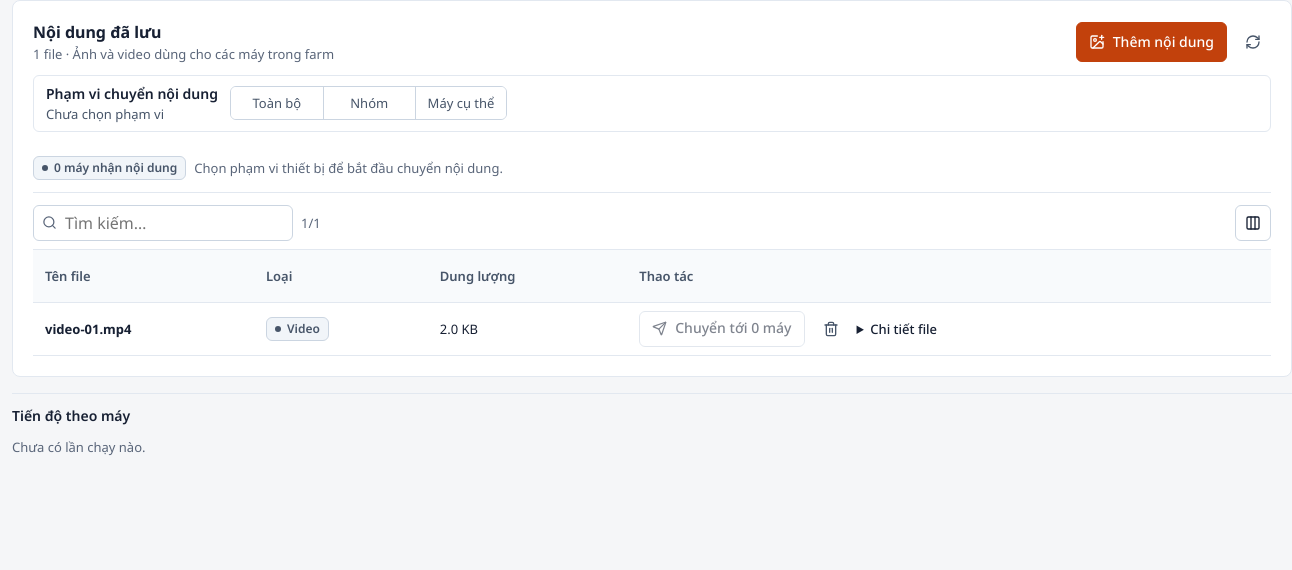
Test: MaterialPage list states › never expands an empty group or cleared explicit selection into All
The image size is (1292, 570).
Click the radio button labelled "Nhóm": click(369, 103) [323,87,415,119]
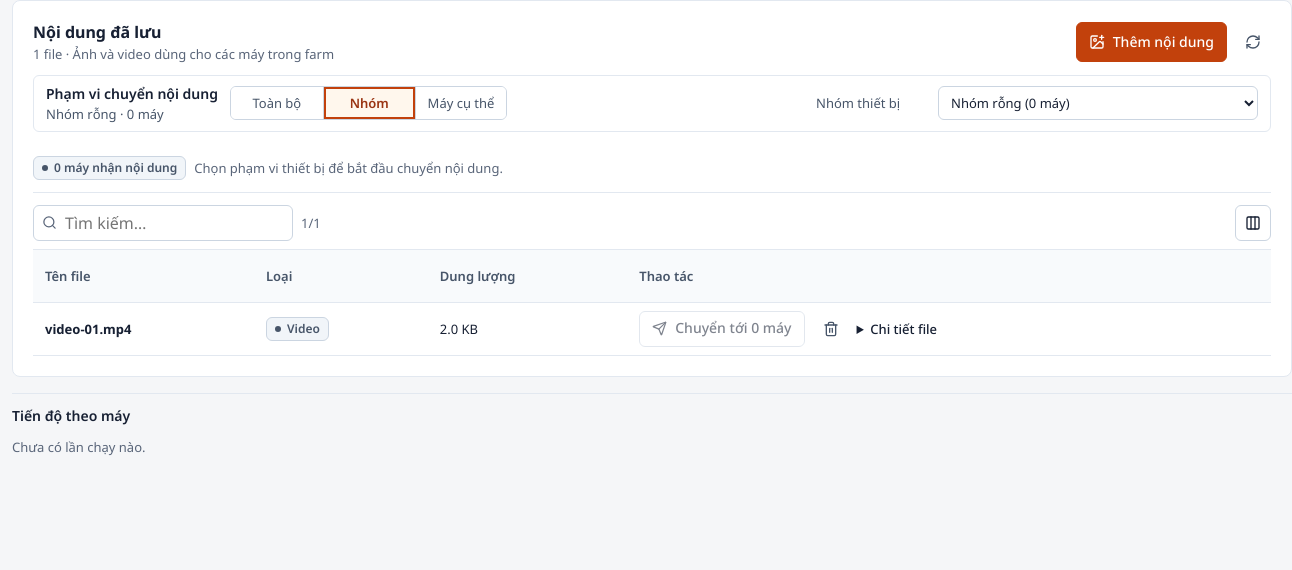
Check: the button "Chuyển tới 0 máy" is disabled, box [639,311,804,347]
Check: the text "Nhóm rỗng · 0 máy" is shown, box [46,105,164,123]
Click the radio button labelled "Máy cụ thể": click(460, 103) [415,87,506,119]
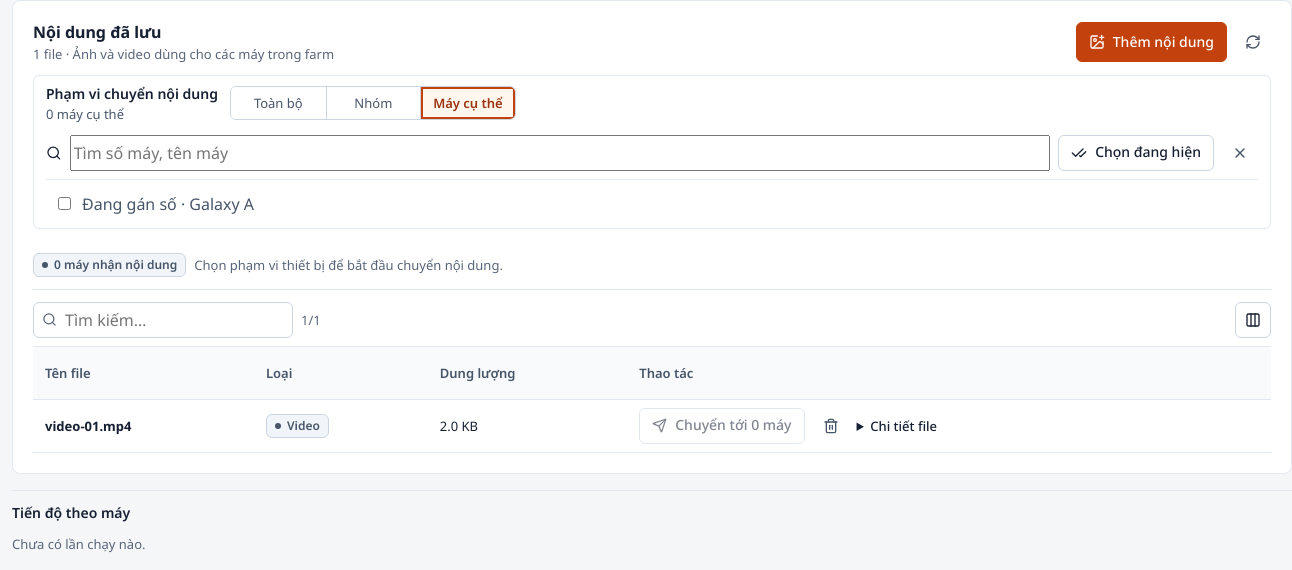
Click the button "Chọn đang hiện": click(1136, 153) [1058,135,1214,171]
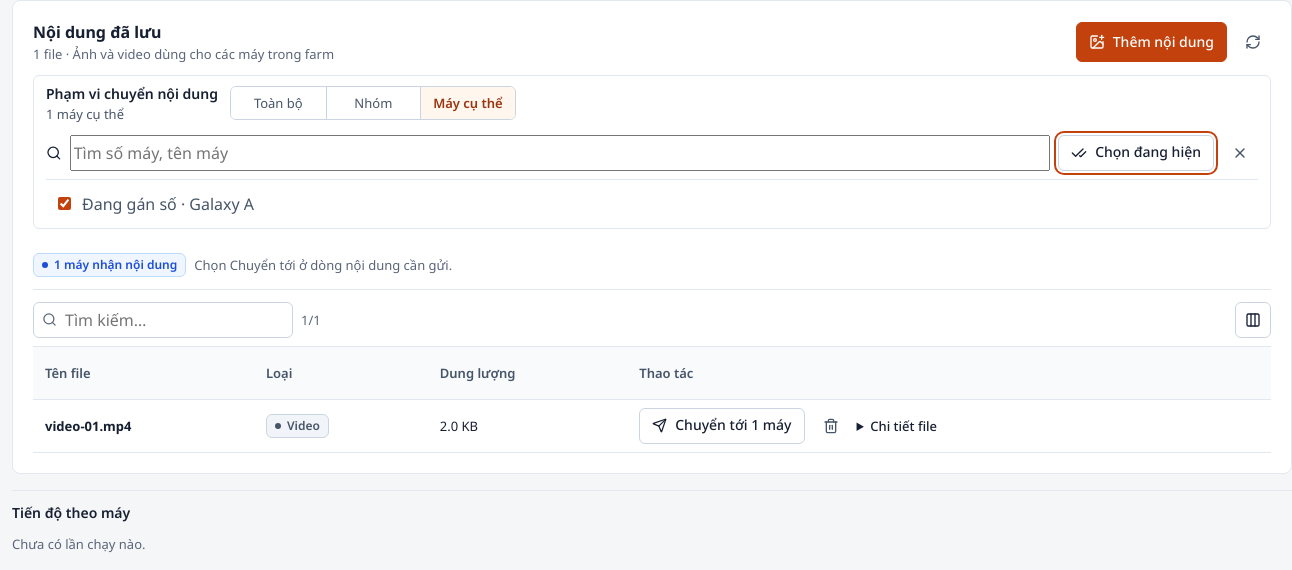
Check: the button "Chuyển tới 1 máy" is enabled, box [639,408,804,444]
Click the button named "Bỏ chọn máy": click(1240, 153) [1222,135,1258,171]
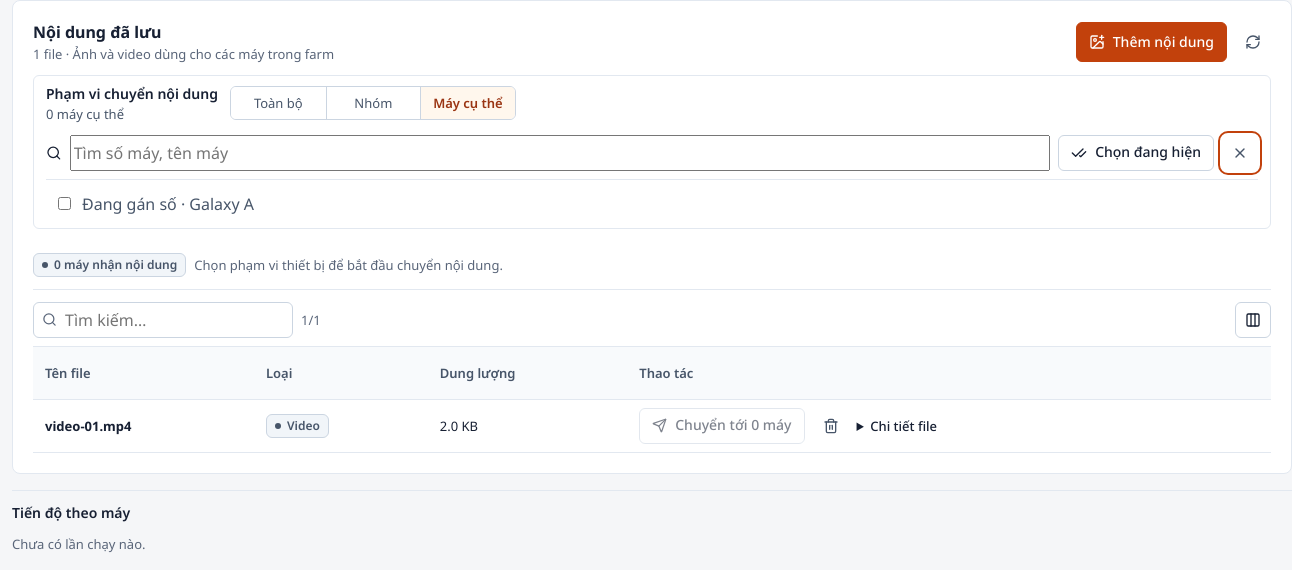
Check: the button "Chuyển tới 0 máy" is disabled, box [639,408,804,444]
